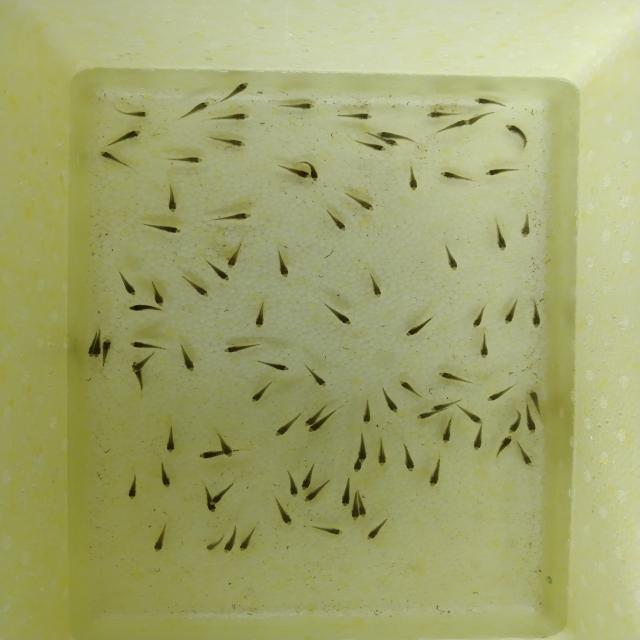fingerling: (399, 437, 422, 473), (368, 512, 394, 541), (299, 362, 327, 388), (424, 454, 446, 487), (147, 526, 172, 554), (456, 402, 485, 426), (146, 276, 170, 305), (274, 496, 296, 527), (181, 273, 209, 297), (408, 316, 437, 339), (181, 99, 214, 119), (328, 302, 355, 326), (283, 464, 301, 499), (210, 481, 236, 505), (116, 270, 138, 298), (274, 415, 299, 439), (207, 262, 234, 284), (178, 344, 199, 372), (336, 474, 354, 506), (251, 378, 273, 404), (494, 434, 515, 460), (530, 301, 547, 333), (223, 81, 253, 99), (438, 366, 468, 384), (471, 301, 489, 331), (300, 462, 319, 490), (163, 155, 216, 165), (502, 121, 526, 143), (360, 394, 376, 427), (367, 267, 384, 298), (396, 377, 421, 398), (482, 386, 508, 406), (381, 390, 401, 416), (279, 99, 319, 112), (164, 422, 180, 454), (222, 246, 244, 269), (325, 210, 349, 231), (157, 460, 175, 488), (214, 110, 250, 124), (373, 432, 389, 463), (493, 224, 510, 253), (216, 211, 253, 224), (440, 416, 457, 444), (124, 470, 141, 498), (438, 170, 471, 184), (442, 243, 459, 270), (128, 302, 166, 314), (127, 337, 159, 351), (503, 300, 520, 326), (465, 112, 495, 126), (276, 251, 292, 277), (277, 170, 311, 182), (518, 442, 535, 466), (219, 432, 236, 456), (253, 299, 266, 330), (239, 527, 255, 552), (133, 353, 151, 375), (340, 111, 373, 123), (206, 529, 223, 552), (260, 359, 290, 372), (312, 524, 344, 536), (116, 128, 145, 141), (434, 120, 464, 132), (212, 138, 248, 148), (357, 143, 387, 155), (354, 196, 376, 212), (527, 408, 540, 435), (221, 345, 256, 355), (518, 213, 531, 239), (473, 426, 486, 452), (478, 334, 492, 358), (113, 110, 154, 118), (148, 224, 184, 233), (356, 437, 368, 464), (167, 185, 178, 214), (95, 151, 124, 162), (306, 160, 321, 181), (426, 110, 460, 119), (376, 131, 413, 139), (102, 337, 111, 368), (203, 487, 214, 512), (472, 98, 506, 106), (304, 489, 319, 507), (506, 416, 520, 435), (483, 168, 516, 176), (529, 388, 540, 411), (407, 171, 418, 194), (358, 493, 367, 520), (200, 448, 220, 460), (350, 492, 358, 521), (224, 536, 235, 556), (430, 402, 453, 411), (303, 415, 321, 426), (378, 140, 402, 148), (94, 334, 102, 358), (350, 462, 366, 472), (415, 412, 431, 420)
